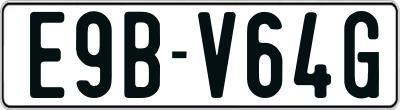4: (294, 11, 335, 100)
6: (247, 11, 284, 100)
9: (75, 8, 111, 99)
B: (123, 10, 160, 100)
E: (27, 11, 67, 101)
G: (344, 11, 381, 99)
V: (196, 11, 237, 99)
